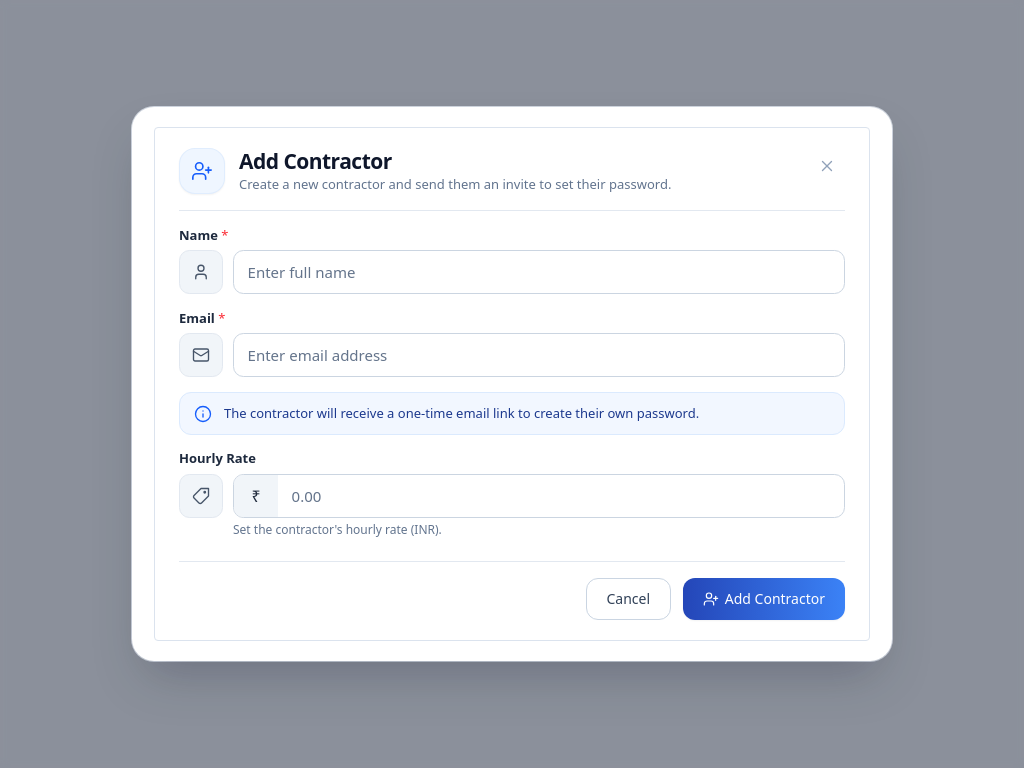
Test: AddContractorModal › validates negative or invalid hourly rates
The image size is (1024, 768).
Type "Taylor Swift" into the field with placeholder "Enter full name". click: (539, 272)
box: [233, 250, 845, 294]
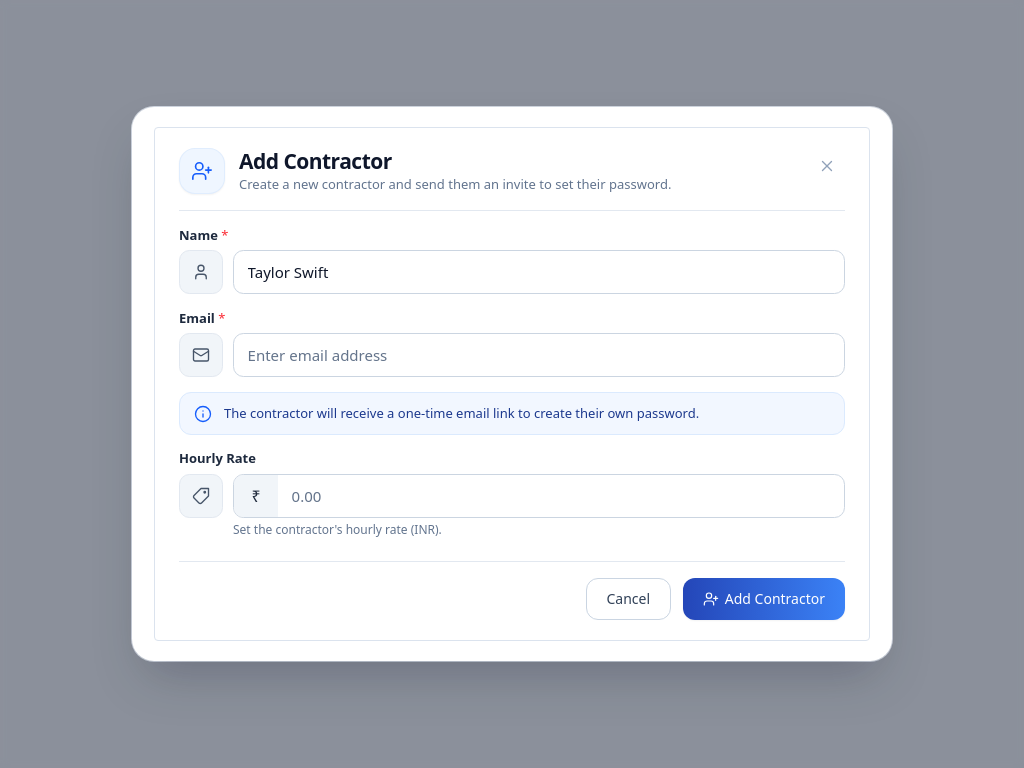
Type "taylor@swift.com" into the field with placeholder "Enter email address". click: (539, 355)
box: [233, 333, 845, 377]
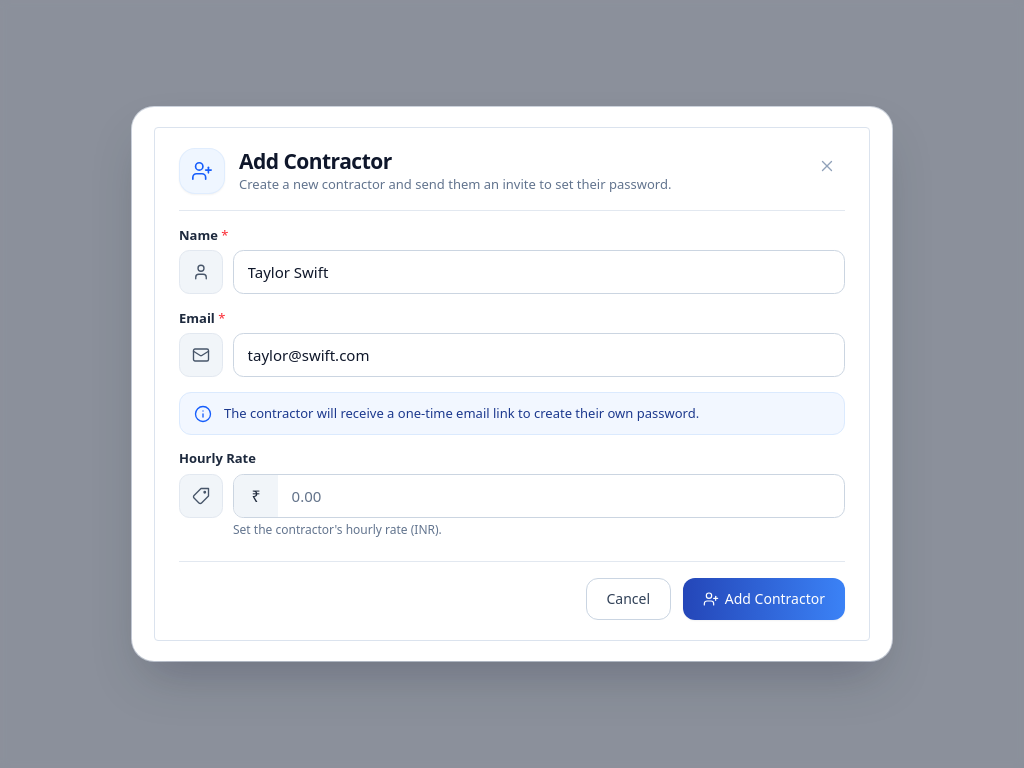
Type "-25" into the number field with placeholder "0.00". click: (561, 496)
box: [278, 475, 844, 517]
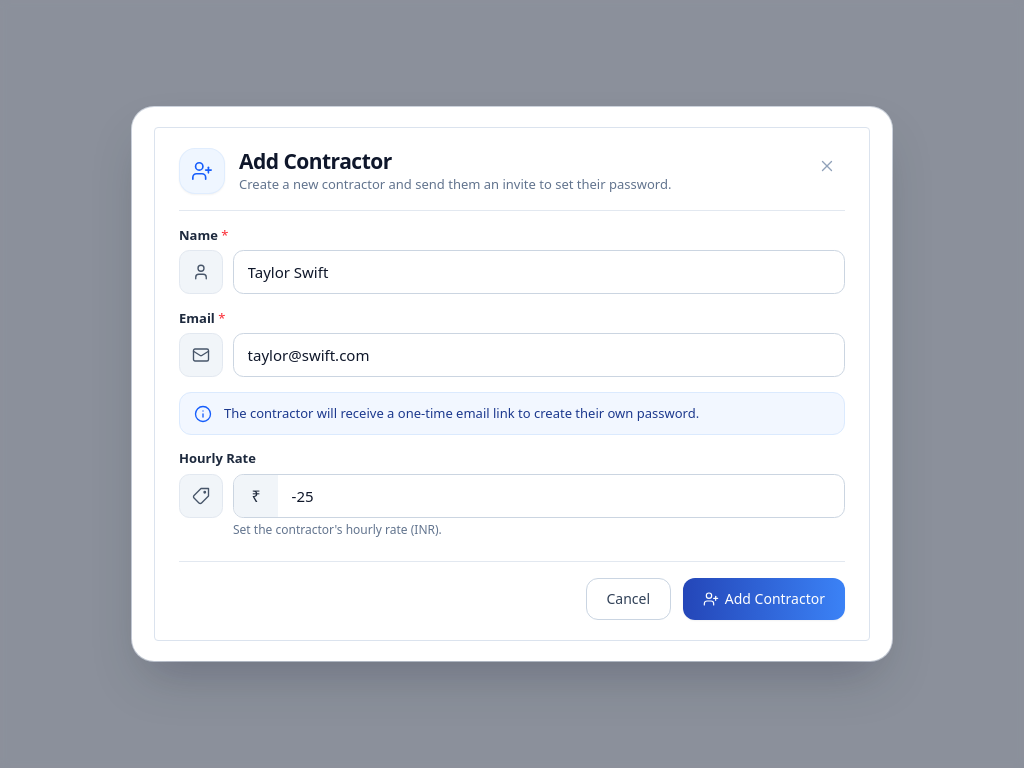
Click the button "Add Contractor". click: (764, 599)
box: [683, 578, 845, 620]
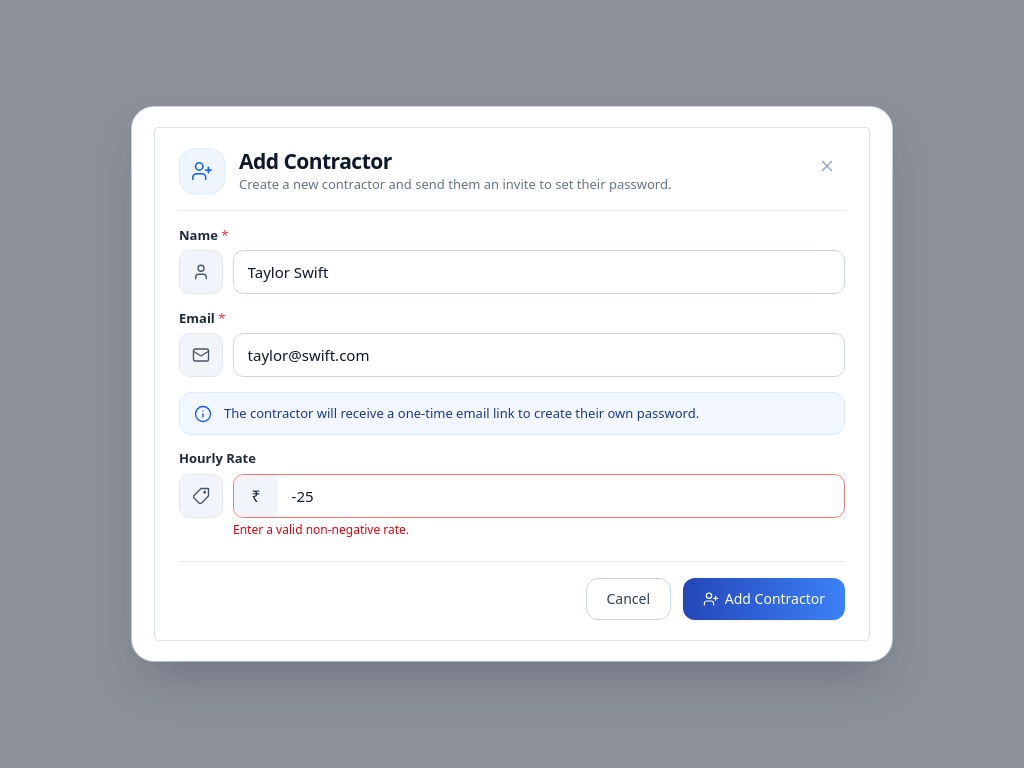
Now the text "Enter a valid non-negative rate." is shown, box [233, 521, 409, 538]
